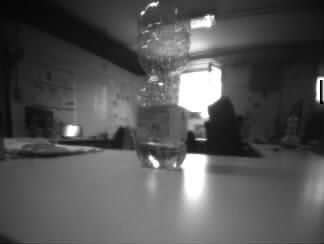Bottle: (133, 1, 189, 170)
